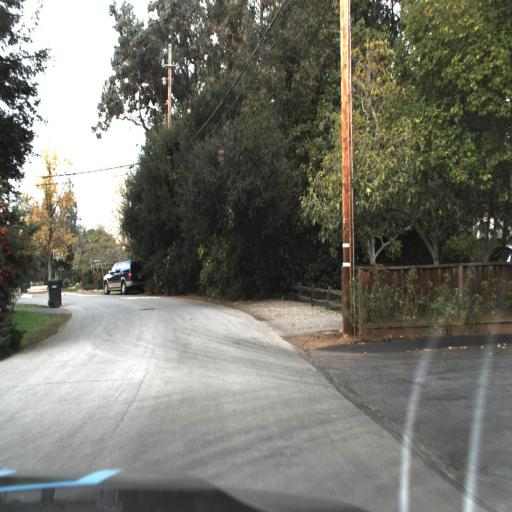car: (97, 251, 148, 301)
